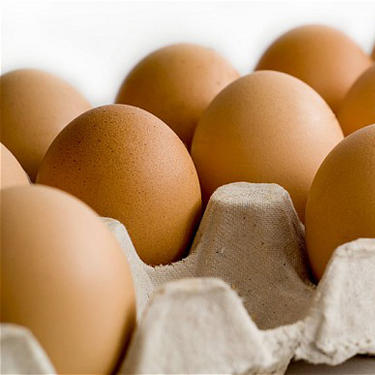egg: (2, 22, 375, 373)
